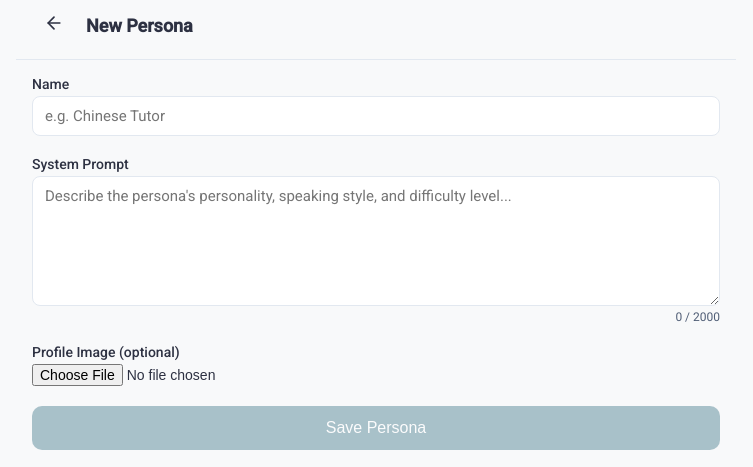
it: PersonaForm › save button is enabled when form is valid
Step 1. Type "Test Persona" into the field with test id "persona-name-input" → (376, 116), box [32,96,720,136]
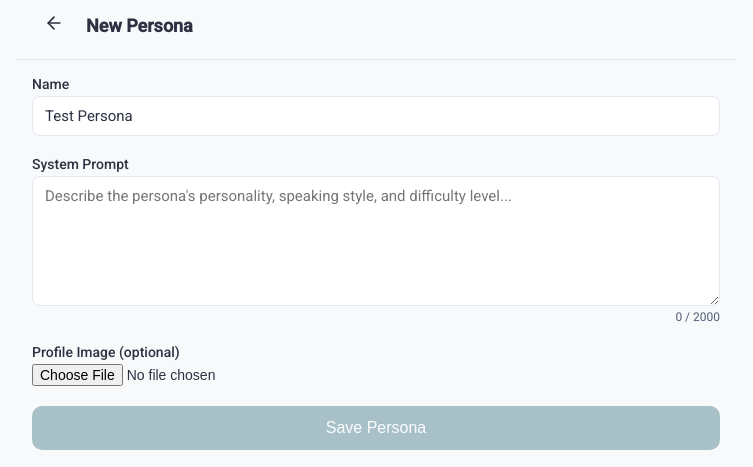
Step 2. Replace the text in the text box with test id "persona-prompt-input" with "A valid prompt" → (376, 241), box [32,176,720,306]
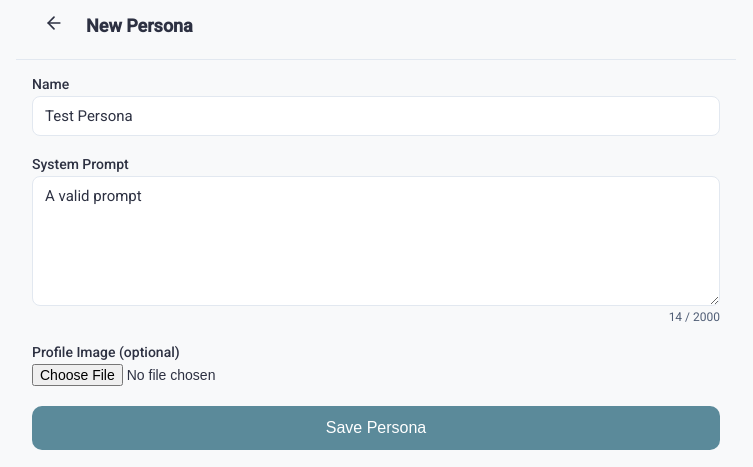
Expected: the button with test id "persona-save-btn" is enabled, [32,406,720,450]
